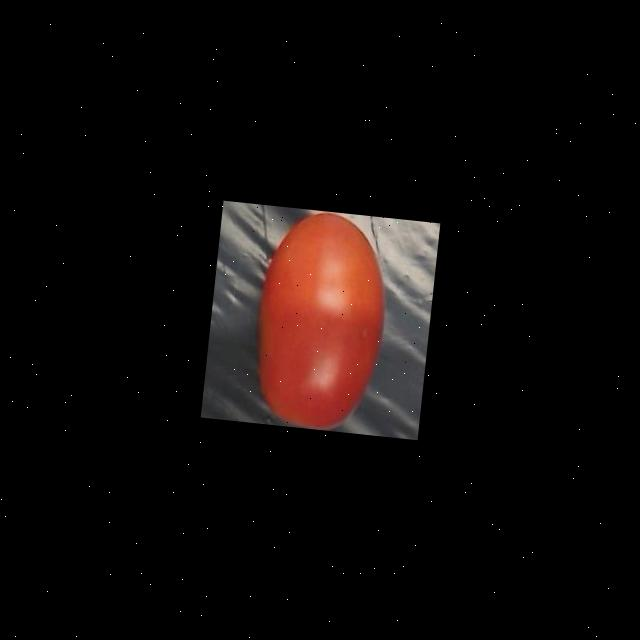tomato: (238, 204, 402, 435)
